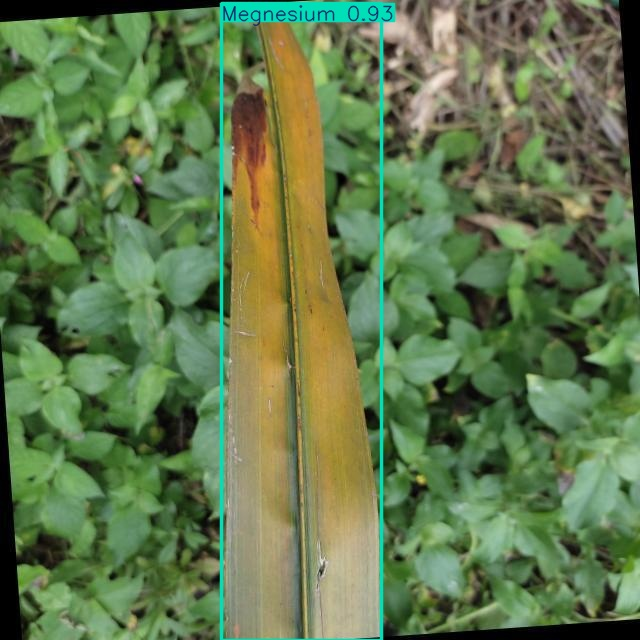Megnesium: (221, 3, 382, 640)
